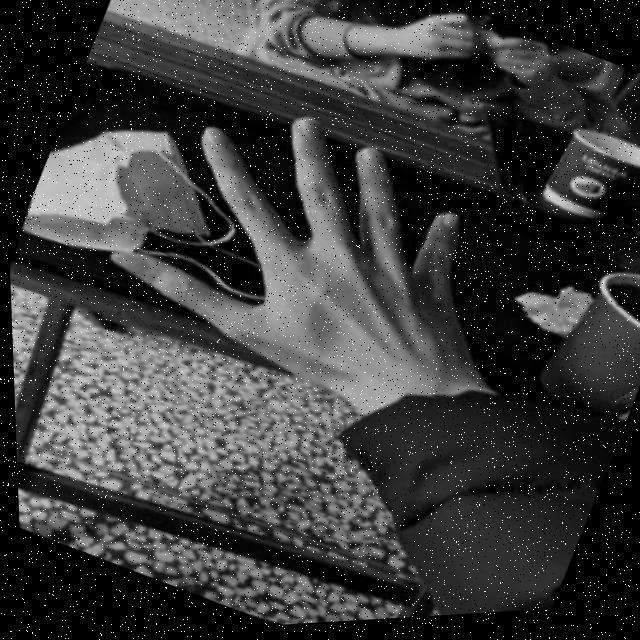no-gloves: (83, 51, 533, 454)
